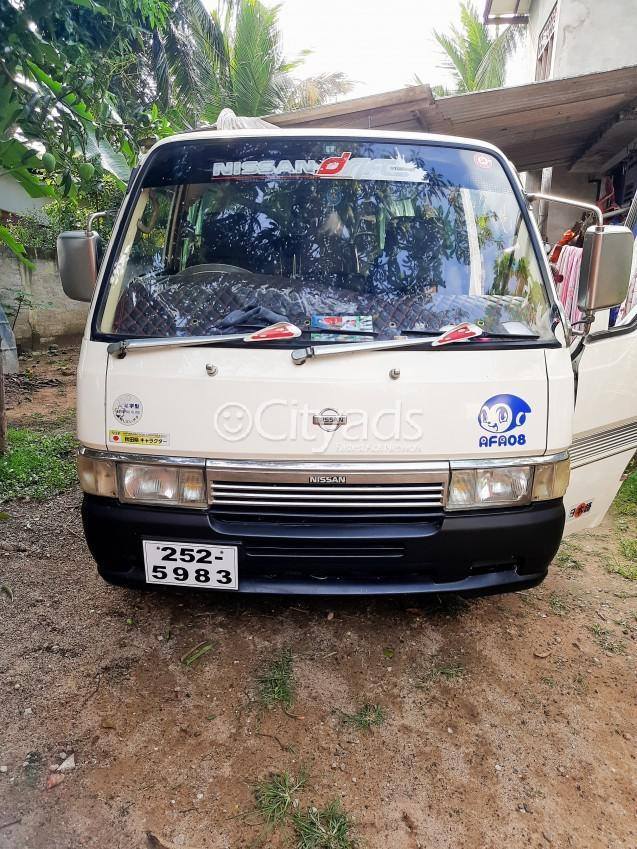Van: (68, 98, 582, 628)
